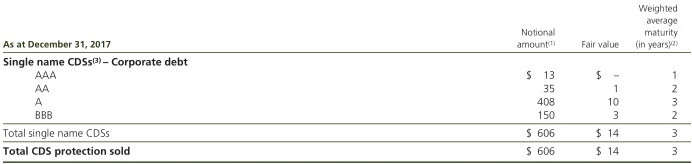column: (2, 1, 189, 164), (634, 1, 678, 164), (580, 1, 622, 164), (515, 1, 556, 164)
row: (1, 57, 692, 68), (1, 69, 692, 80), (1, 128, 692, 139), (1, 39, 692, 49), (1, 84, 692, 94), (1, 110, 692, 120), (1, 145, 692, 155), (1, 4, 691, 14), (1, 97, 692, 106), (1, 28, 691, 37), (1, 17, 691, 25)
